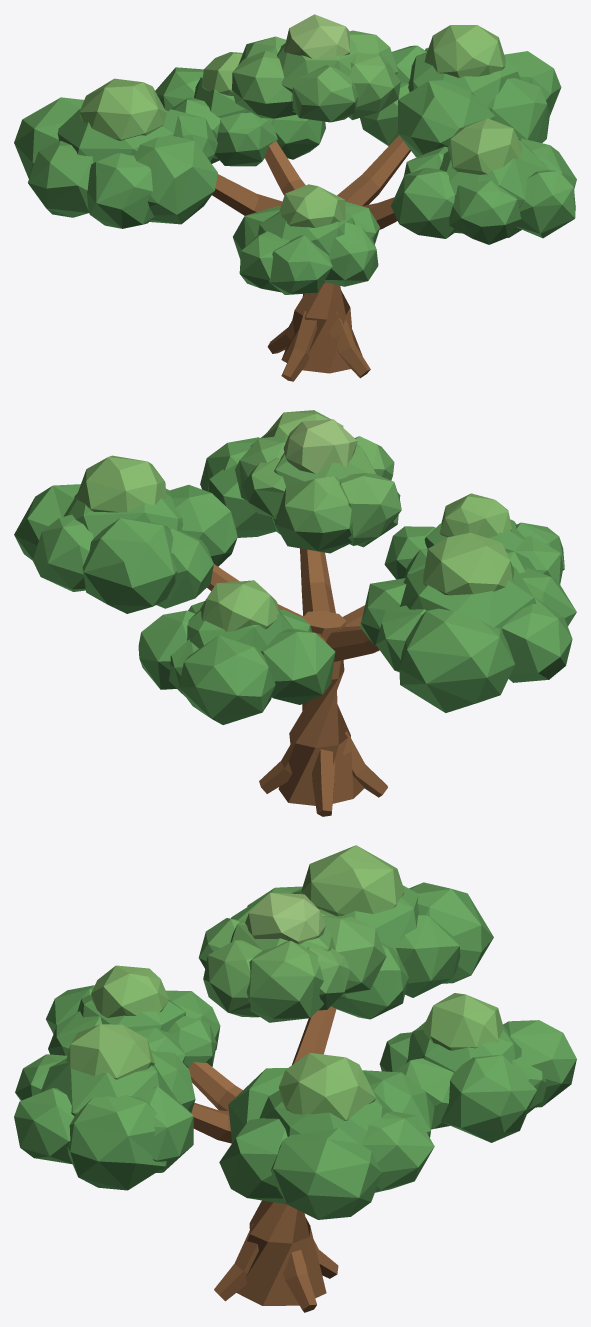
File: giant_elder_oak.fbx
3 views of the same model, one above another, from view 1: azimuth 30°, elevation 25°; view 2: azimuth 150°, elevation 25°; view 3: azimuth 270°, elevation 25° (orthographic). The views are drawn at different scales.
Visible parts, largest first — view 1: giant_elder_oak; view 2: giant_elder_oak; view 3: giant_elder_oak.
Boxes of the visible parts, bbox=[...] form: giant_elder_oak: bbox=[14, 14, 576, 381]; giant_elder_oak: bbox=[14, 410, 576, 816]; giant_elder_oak: bbox=[14, 845, 576, 1312].
Size of the model in its own units: 159 by 103 by 132.
